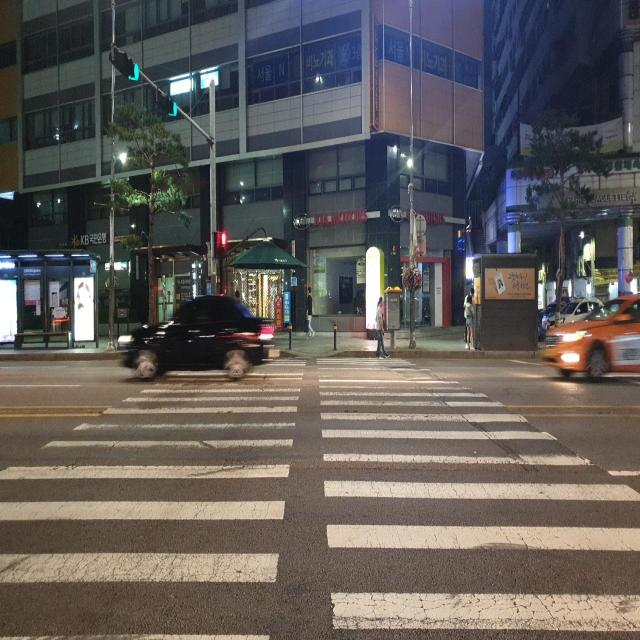빨간불: (219, 230, 228, 263)
횡단보도: (0, 357, 640, 639)
